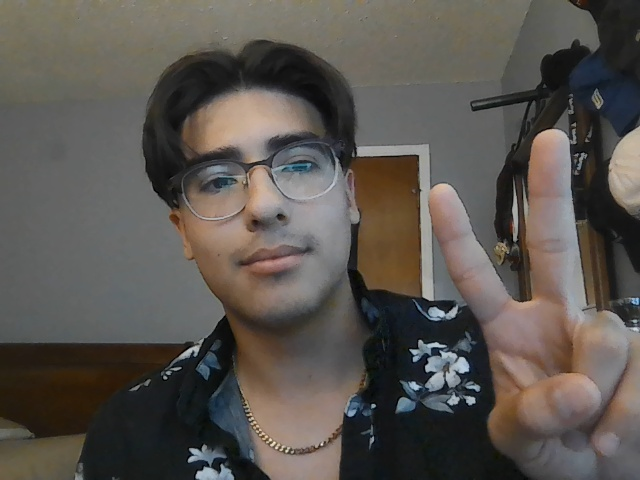PeaceSign: (427, 129, 640, 480)
